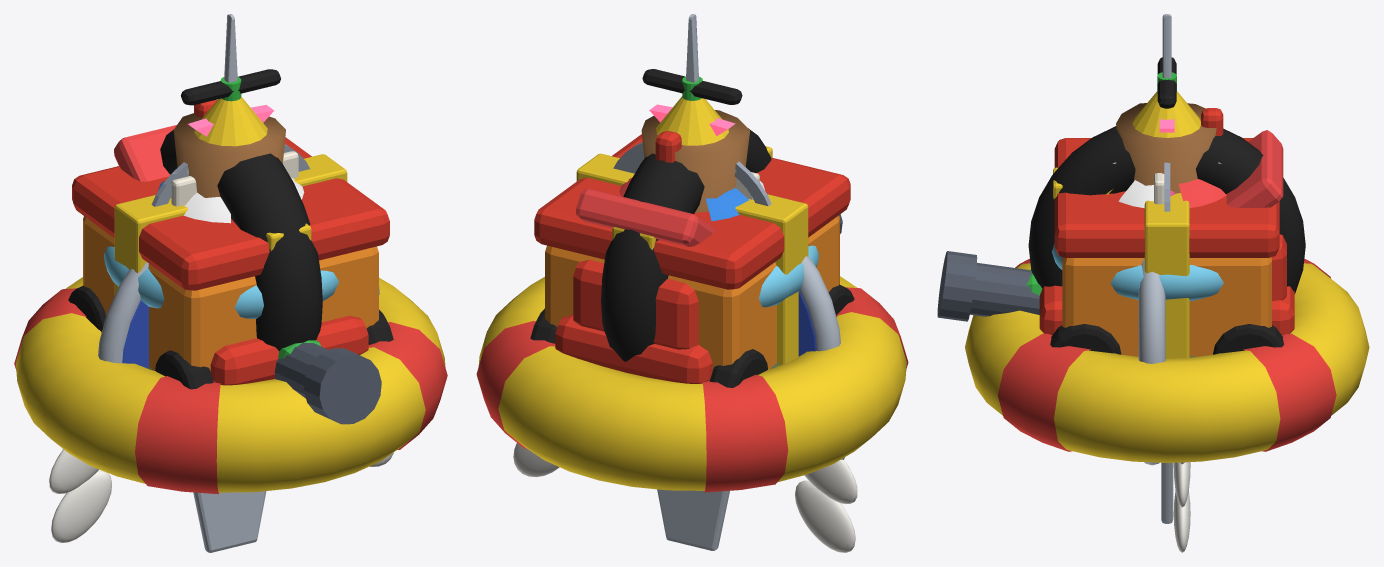
The model's file is items.glb.
The picture shows the model from 3 angles, left to right: view 1: azimuth 30°, elevation 25°; view 2: azimuth 150°, elevation 25°; view 3: azimuth 270°, elevation 25°; orthographic projection. The views are drawn at different scales.
Visible parts, largest first — view 1: TOOB, TOYBOX, BIGWHEEL, GOKART, GUNHAT, JACKINTHEBOX, WINGZ, CLUB, SHIELD, SHOVEL, BABYWALKER, POGOSTICK (+4 smaller); view 2: TOOB, TOYBOX, GOKART, BIGWHEEL, JACKINTHEBOX, WINGZ, CLUB, SHOVEL, SHIELD, POGOSTICK, BABYWALKER, DEATHTOUCH (+2 smaller); view 3: TOOB, TOYBOX, BIGWHEEL, GOKART, GUNHAT, JACKINTHEBOX, CLUB, BABYWALKER, SHIELD, BEACHBALL, WINGZ, POGOSTICK (+2 smaller).
Boxes of the visible parts, x1,y1,x2,y2 form: TOOB: (14, 277, 447, 494); TOYBOX: (72, 137, 389, 371); BIGWHEEL: (160, 99, 322, 350); GOKART: (68, 285, 393, 389); GUNHAT: (148, 342, 381, 424); JACKINTHEBOX: (114, 97, 267, 181); WINGZ: (49, 448, 393, 542); CLUB: (173, 113, 288, 197); SHIELD: (98, 262, 379, 368); SHOVEL: (193, 491, 266, 552); BABYWALKER: (104, 246, 338, 318); POGOSTICK: (181, 69, 280, 105); TOOB: (476, 276, 908, 492); TOYBOX: (534, 134, 850, 370); GOKART: (530, 259, 854, 387); BIGWHEEL: (601, 128, 771, 361); JACKINTHEBOX: (576, 96, 728, 246); WINGZ: (513, 443, 857, 552); CLUB: (641, 110, 750, 212); SHOVEL: (657, 489, 729, 550); SHIELD: (798, 255, 840, 356); POGOSTICK: (642, 69, 742, 104); BABYWALKER: (759, 245, 818, 307); DEATHTOUCH: (613, 142, 771, 206); TOOB: (965, 258, 1369, 462); TOYBOX: (1053, 138, 1279, 358); BIGWHEEL: (1028, 108, 1305, 293); GOKART: (1039, 234, 1294, 354); GUNHAT: (937, 251, 1196, 357); JACKINTHEBOX: (1132, 91, 1283, 207); CLUB: (1112, 103, 1221, 193); BABYWALKER: (1052, 244, 1223, 301); SHIELD: (1138, 258, 1165, 465); BEACHBALL: (1106, 179, 1226, 208); WINGZ: (1173, 462, 1190, 552); POGOSTICK: (1157, 57, 1176, 108).
Size of the model in its own units: 0.54 by 0.735 by 0.5765.
